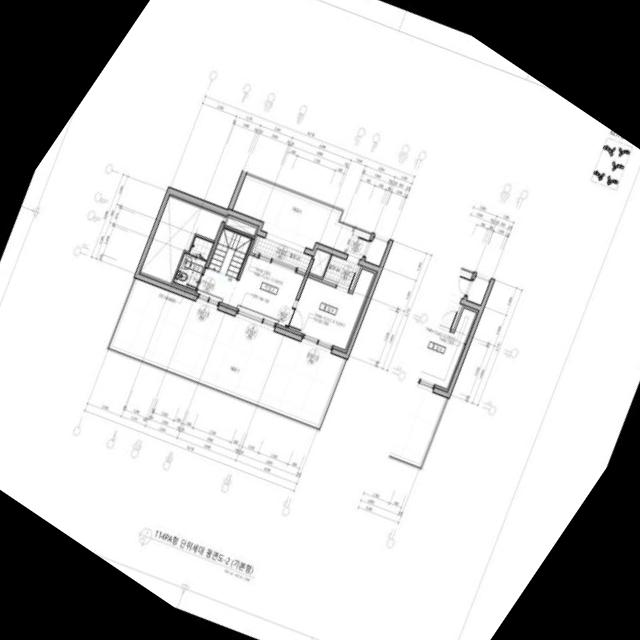background: (0, 0, 640, 640)
space_balconi: (255, 236, 312, 270), (324, 255, 359, 286)
space_bedroom: (288, 266, 377, 350)
space_living_room: (197, 254, 304, 326)
space_other: (111, 279, 344, 425), (233, 177, 370, 259), (140, 195, 224, 285), (207, 227, 252, 279), (224, 215, 258, 236), (365, 238, 387, 266), (309, 249, 330, 277)
space_toilet: (174, 236, 213, 289)
